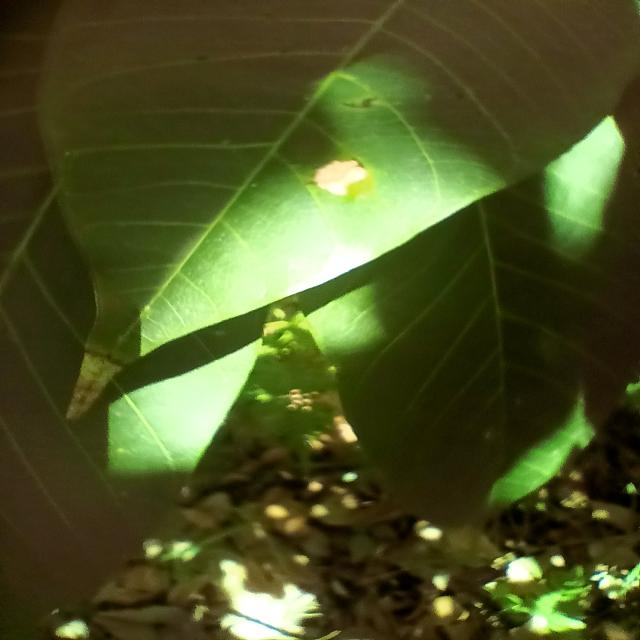Leaf-Blight: (63, 348, 125, 422), (313, 160, 365, 194)
